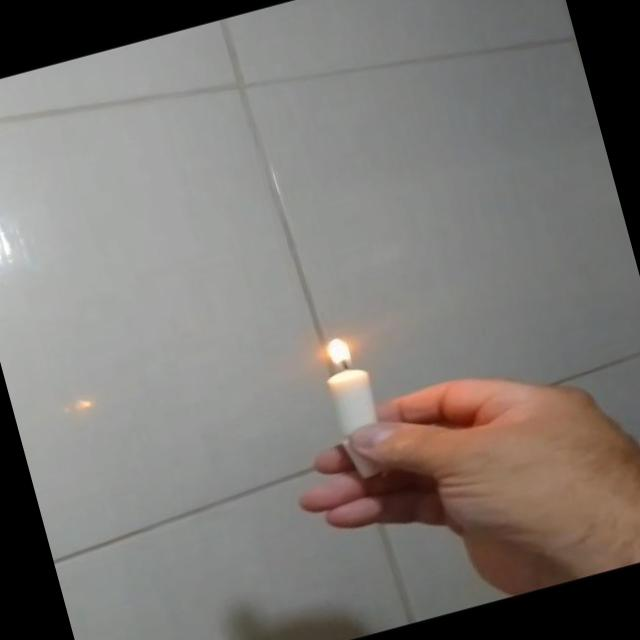Fire: (316, 328, 362, 375)
